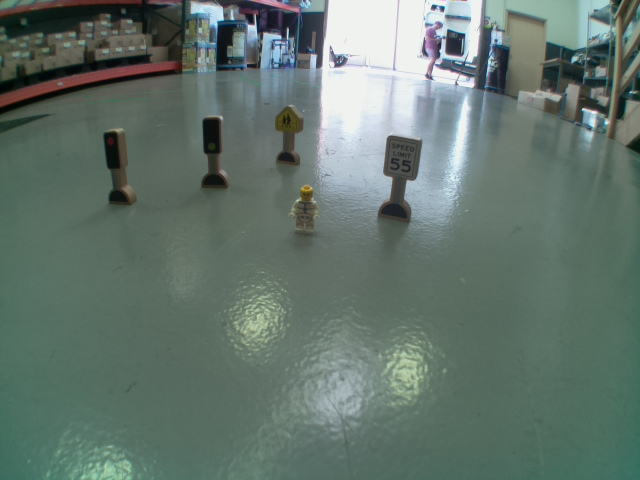Green Traffic Light: (199, 115, 225, 157)
Red Traffic Light: (101, 128, 123, 171)
Speed Limit 55: (382, 131, 423, 182)
YIELD: (273, 103, 304, 133)
person: (286, 181, 325, 238)
